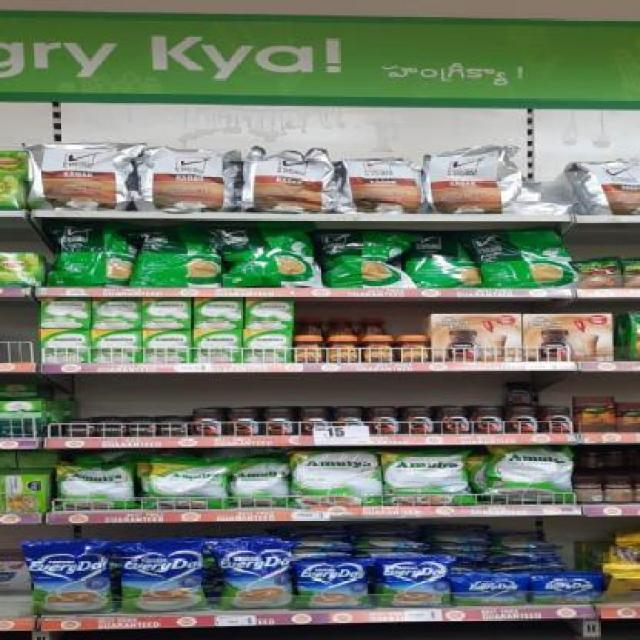Coffee: (402, 408, 436, 434), (396, 336, 429, 362), (327, 336, 360, 362), (334, 408, 365, 435), (474, 407, 505, 434), (438, 408, 470, 434), (293, 336, 324, 362), (370, 408, 398, 435), (366, 336, 395, 362), (230, 410, 259, 436), (193, 410, 222, 436), (508, 408, 536, 434), (543, 407, 572, 432), (263, 409, 292, 434), (302, 409, 328, 436), (158, 420, 189, 436), (97, 421, 128, 437), (127, 420, 156, 436), (66, 422, 92, 436)
